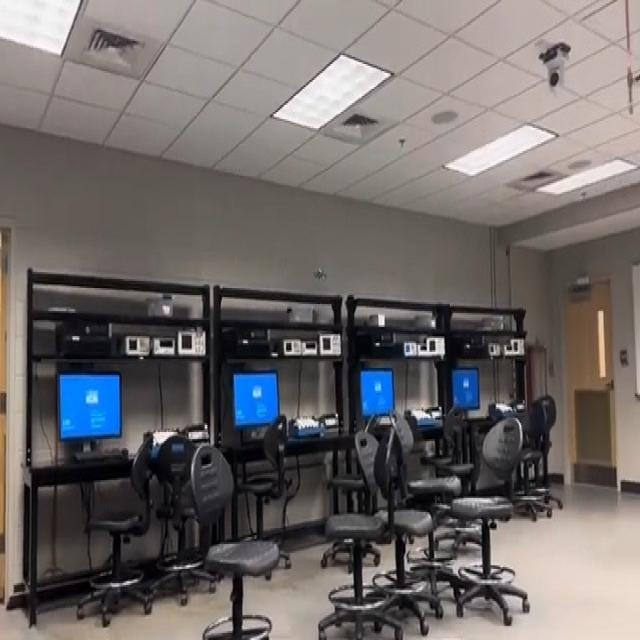drone: (307, 254, 336, 292)
